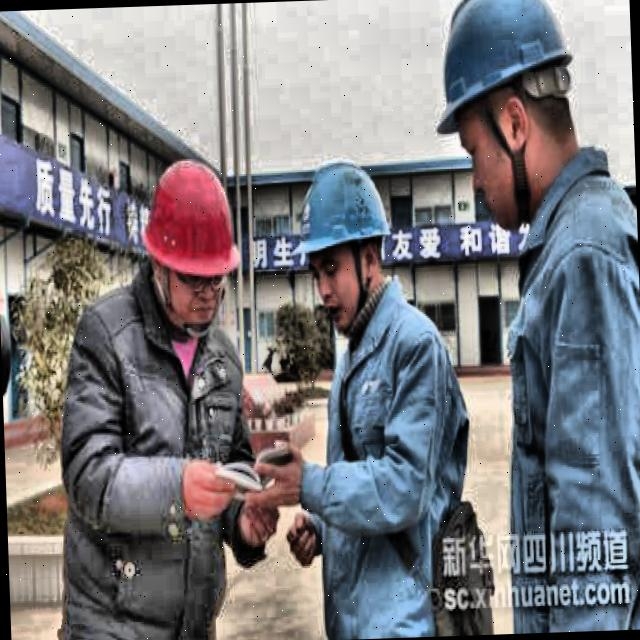helmet: (424, 0, 599, 238), (131, 139, 250, 343), (284, 145, 404, 335)
